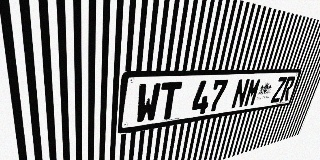4: (190, 80, 213, 116)
7: (207, 79, 228, 113)
M: (243, 78, 262, 107)
N: (230, 78, 251, 109)
R: (279, 76, 296, 102)
T: (157, 82, 182, 121)
W: (135, 83, 161, 124)
Z: (270, 77, 288, 103)
